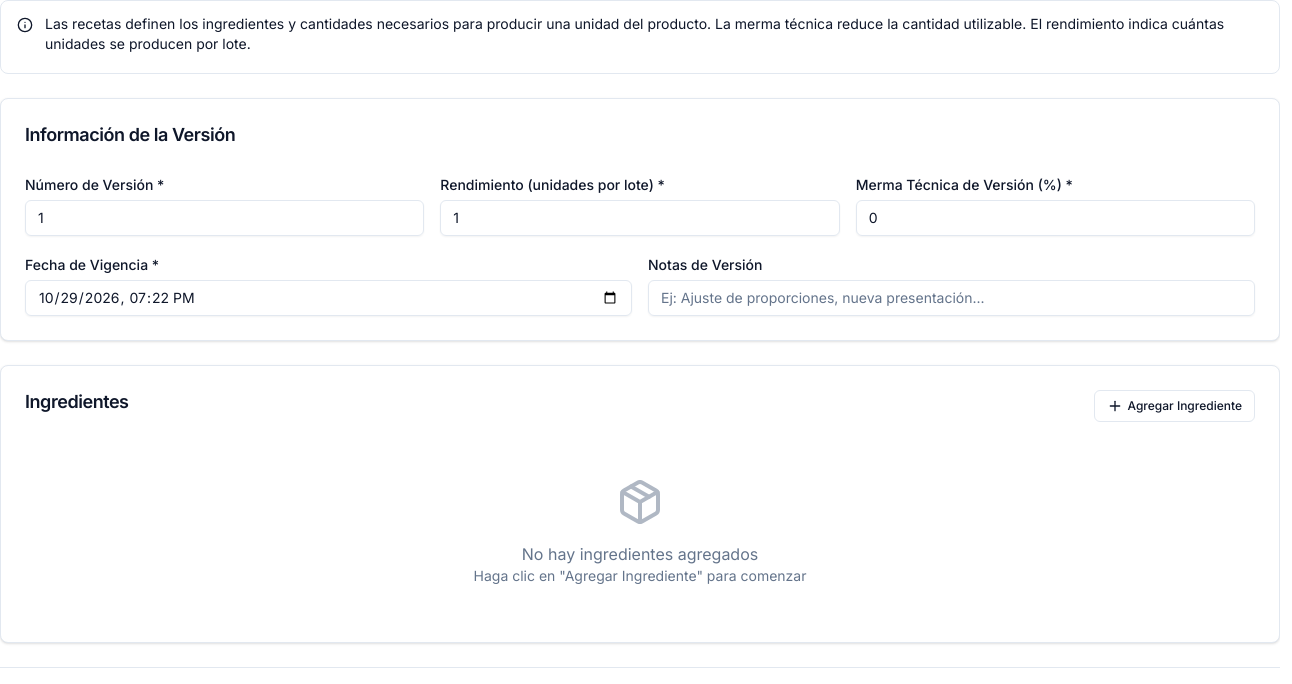
Test: RecipeForm componentes: Tipo, ingrediente y UOM (R15 / S12) › el campo Tipo cambia a Sub-receta (síntomas 1 y 4)
Click the button "Agregar Ingrediente" at (1175, 406), box [1094,390,1255,422]
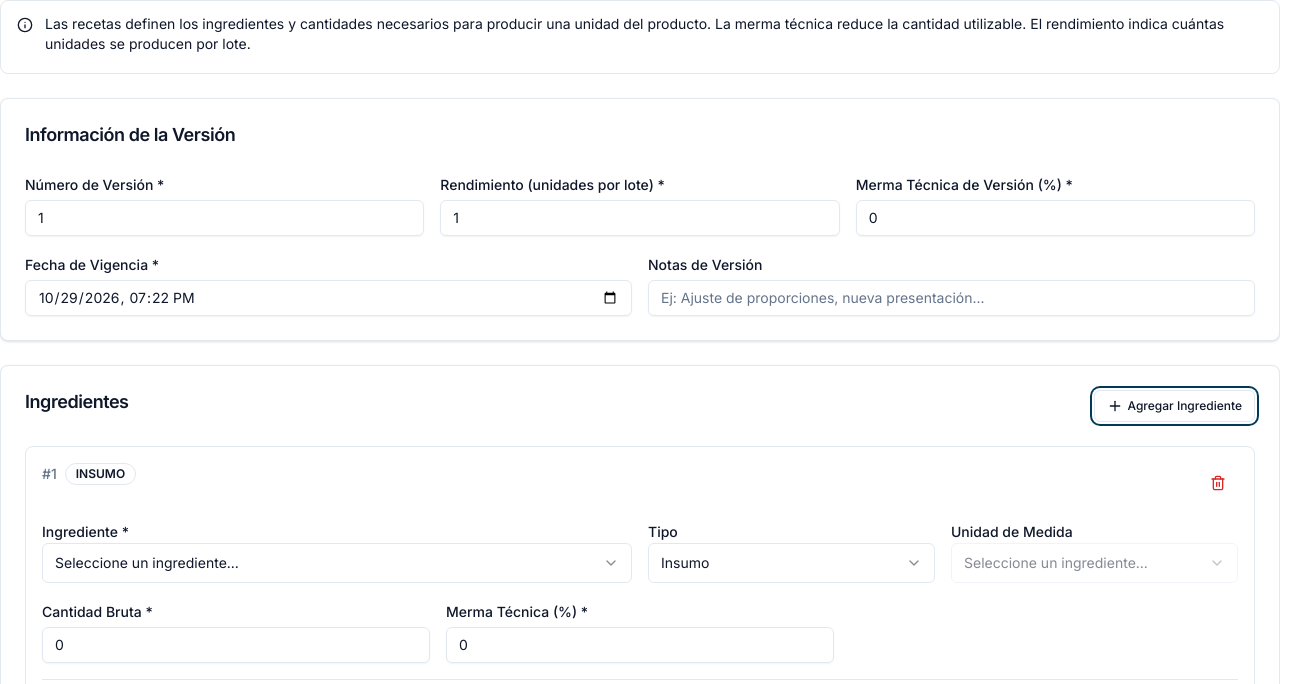
Click the dropdown named "Tipo" at (685, 562), box [648,543,935,583]
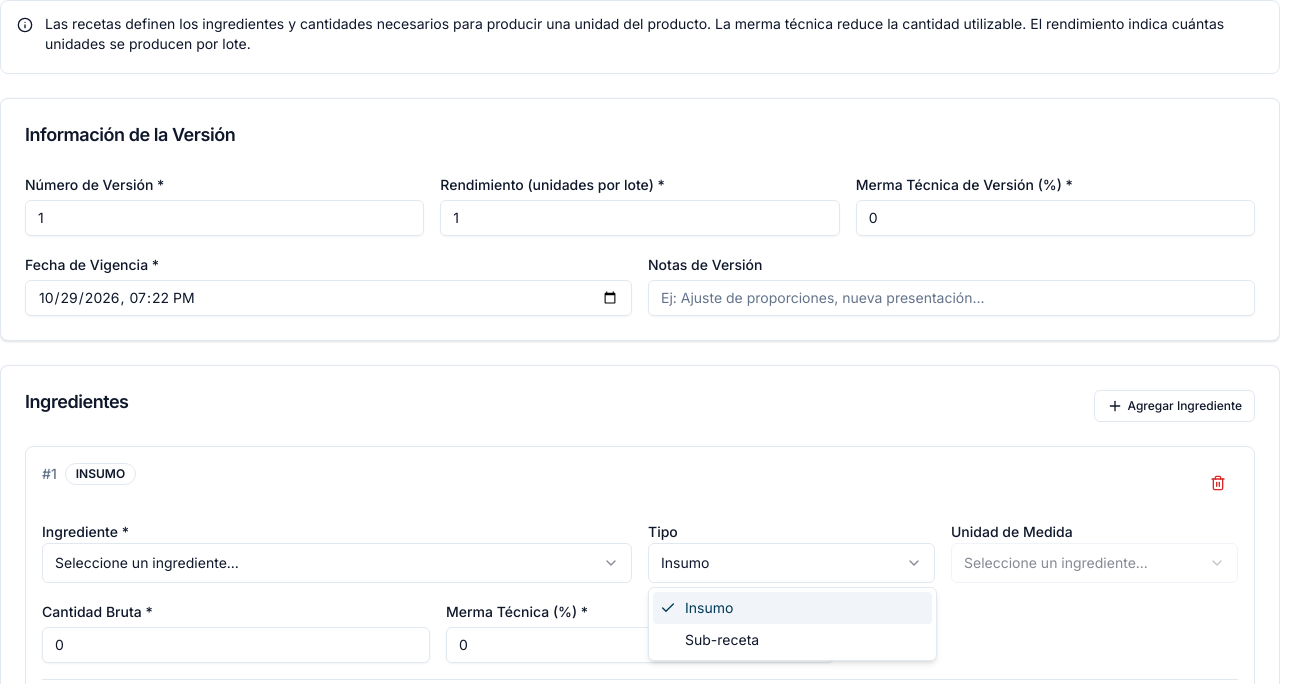
Click the option "Sub-receta" at (722, 640), box [685,631,759,648]
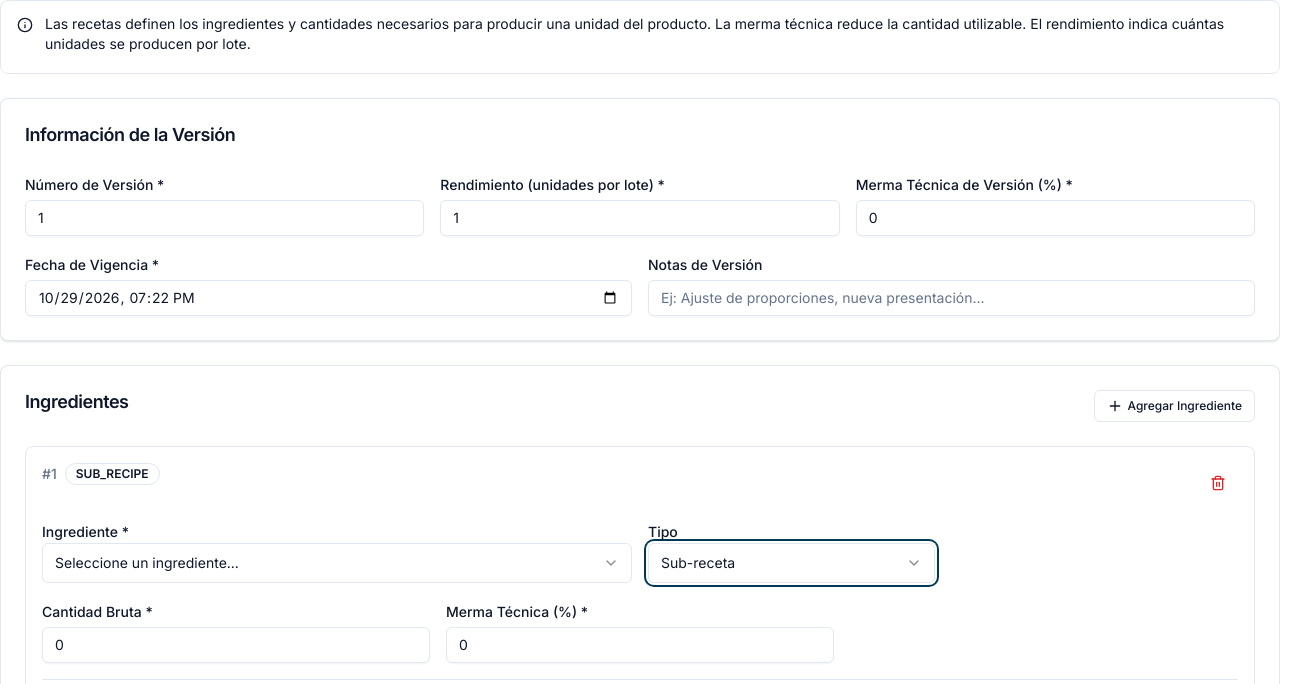
Now the dropdown named "Tipo" reads "Sub-receta", box [648,543,935,583]
